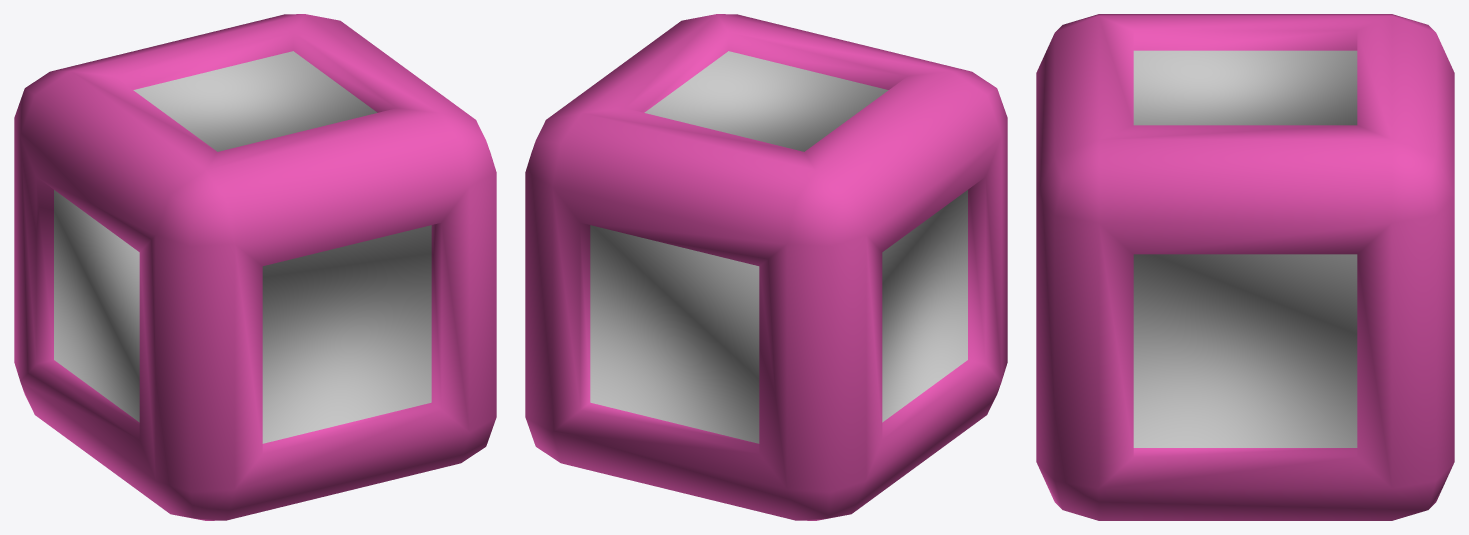
3 views of the same model, side by side, from view 1: azimuth 30°, elevation 25°; view 2: azimuth 150°, elevation 25°; view 3: azimuth 270°, elevation 25° (orthographic). The views are drawn at different scales.
Visible parts, largest first — view 1: Cube; view 2: Cube; view 3: Cube.
Part boxes in pixels (x1,y1,x2,y2): Cube: [14, 14, 496, 520]; Cube: [525, 14, 1007, 520]; Cube: [1036, 14, 1454, 520].
Bounding box in the file's own units: 2 × 2 × 2.
